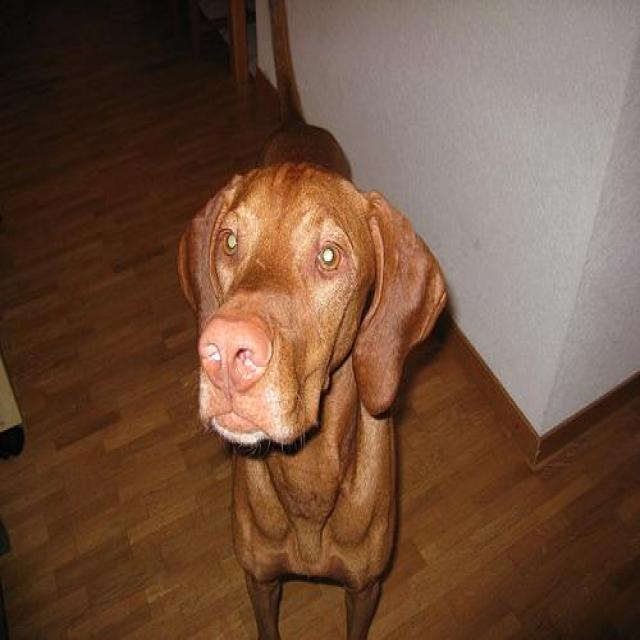vizsla: (174, 0, 445, 638)
